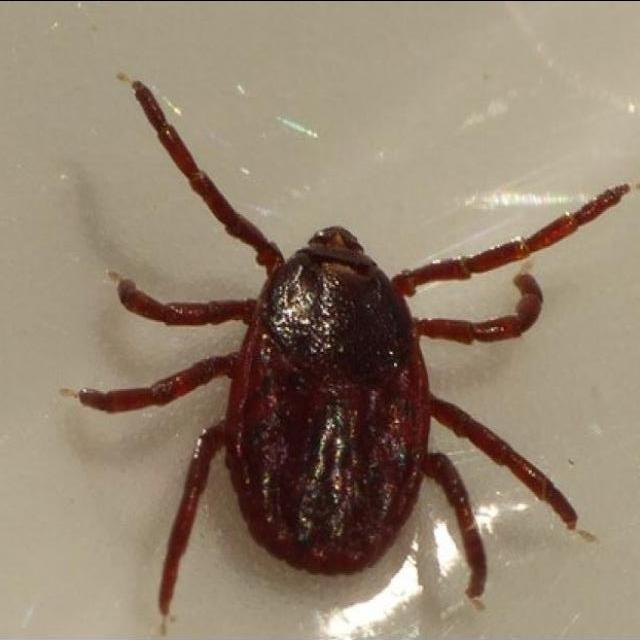Rhipicephalus Sanguineus-F: (79, 81, 634, 619)
